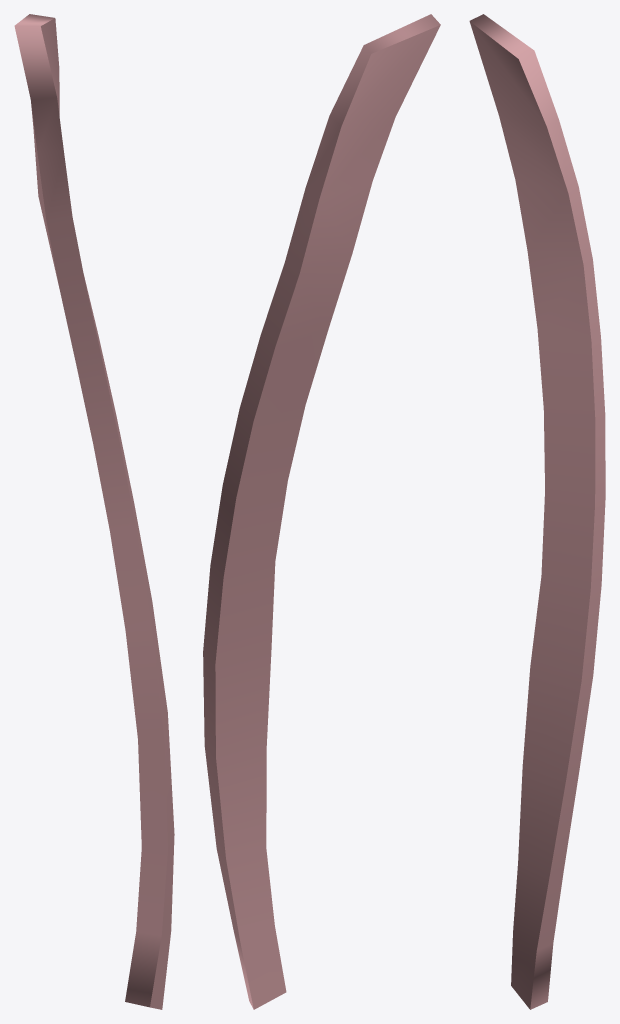
3 views of the same model, side by side, from view 1: azimuth 30°, elevation 25°; view 2: azimuth 150°, elevation 25°; view 3: azimuth 270°, elevation 25° (orthographic). The views are drawn at different scales.
Parts seen in each view (by area): view 1: ZA_cfb958414c646d03; view 2: ZA_cfb958414c646d03; view 3: ZA_cfb958414c646d03.
Part boxes in pixels (bbox=[...]): ZA_cfb958414c646d03: bbox=[14, 14, 174, 1009]; ZA_cfb958414c646d03: bbox=[203, 14, 440, 1009]; ZA_cfb958414c646d03: bbox=[469, 14, 605, 1009].
Bounding box in the file's own units: 0.0262 × 0.1307 × 0.0175.
